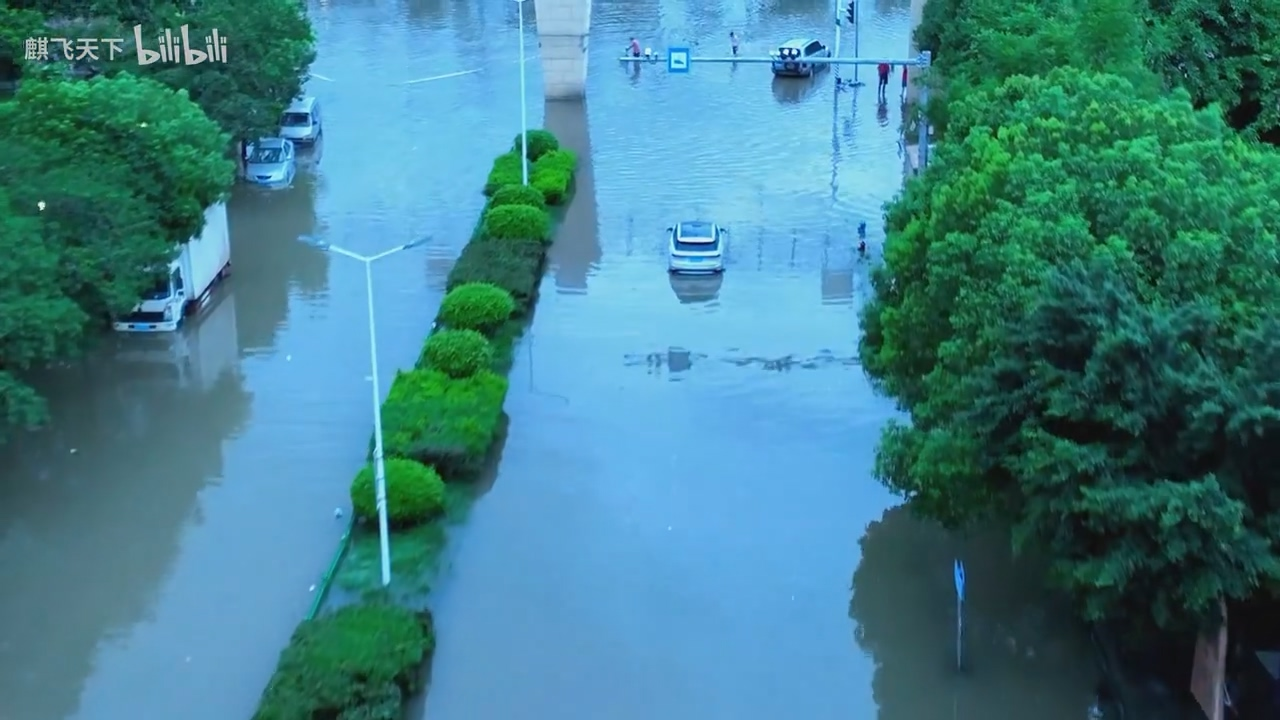puddle: (541, 129, 981, 720), (102, 156, 353, 720)
